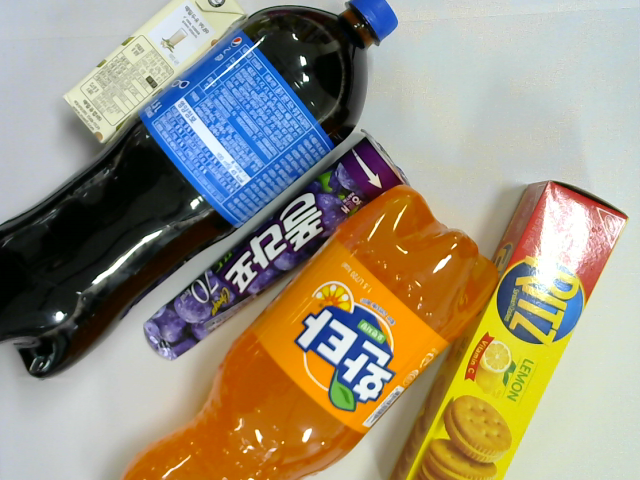99.89_Soymilk: (62, 1, 249, 144)
Hwanta_Orange_1.5L: (118, 179, 501, 480)
Pepsi_Cola_1.5L: (1, 1, 409, 387)
Polapo_Grape: (138, 130, 413, 367)
Ritz_Remon_96g: (392, 172, 639, 480)
